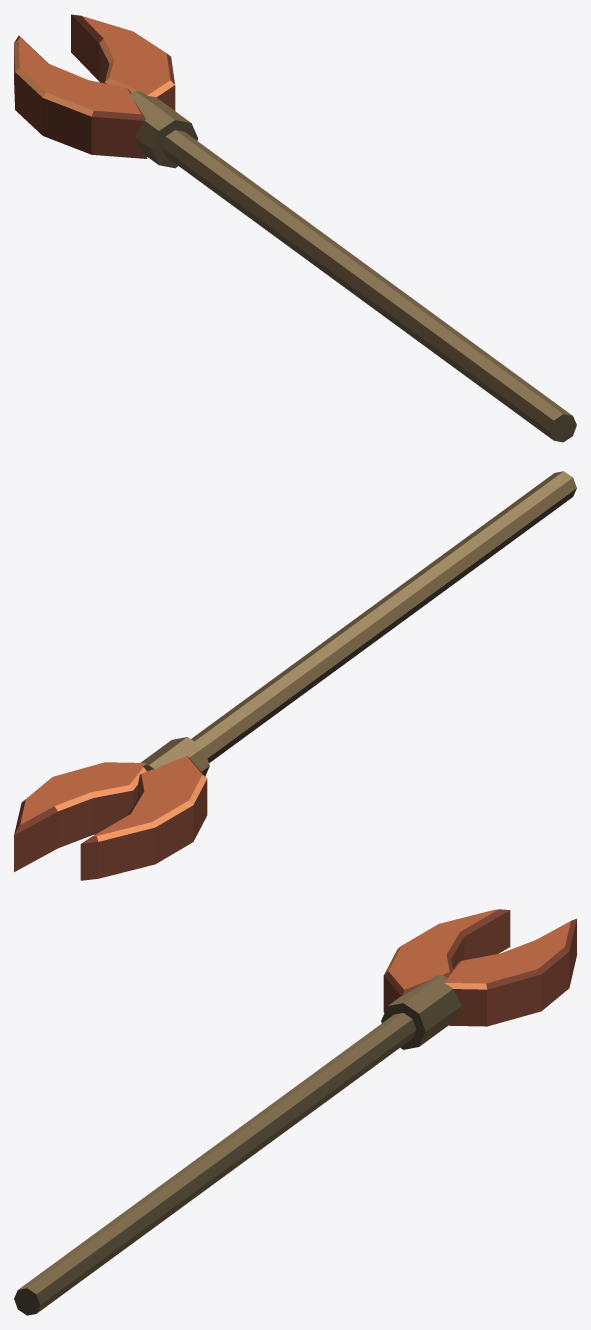
File: crab_spear.fbx
The picture shows the model from 3 angles, top to bottom: view 1: azimuth 30°, elevation 25°; view 2: azimuth 150°, elevation 25°; view 3: azimuth 330°, elevation 25°; orthographic projection. The views are drawn at different scales.
Parts seen in each view (by area): view 1: crab_spear; view 2: crab_spear; view 3: crab_spear.
Boxes of the visible parts, x1,y1,x2,y2 form: crab_spear: (14,14,576,442); crab_spear: (14,471,576,880); crab_spear: (14,909,576,1315).
Size of the model in its own units: 0.48 by 0.16 by 3.18.
1 material, 1 textured.
